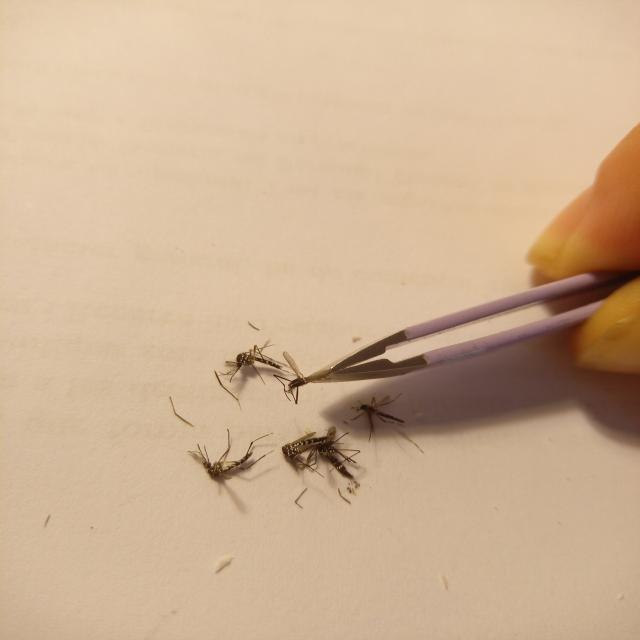albopictus: (211, 317, 309, 407)
